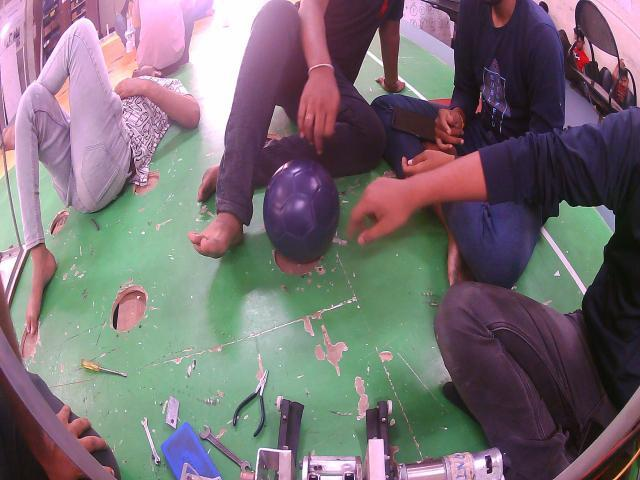kaalyya: (262, 158, 340, 263)
